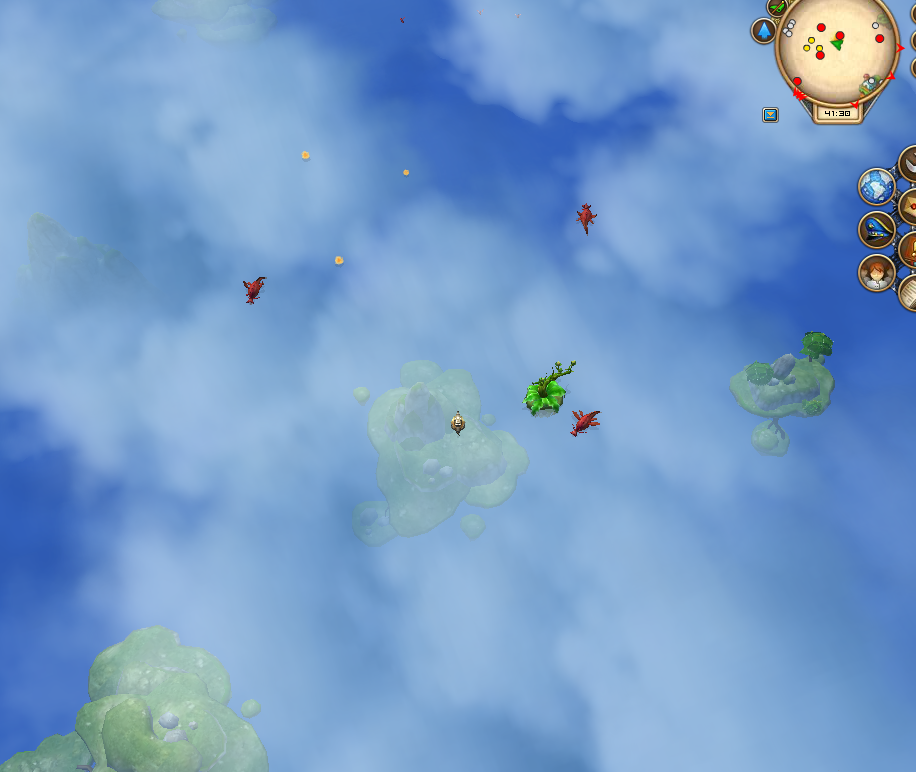dandelion-empty: (521, 351, 582, 421)
fluff: (330, 253, 347, 270), (297, 148, 313, 164), (398, 166, 413, 180)
